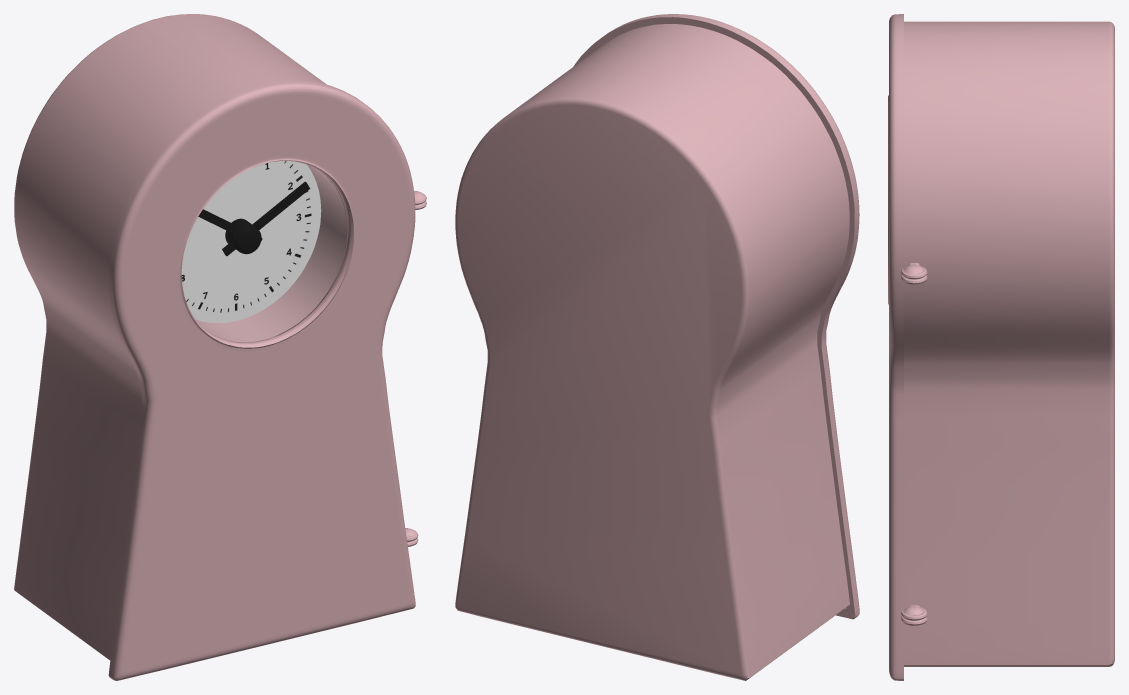
The picture shows the model from 3 angles, left to right: view 1: azimuth 30°, elevation 25°; view 2: azimuth 150°, elevation 25°; view 3: azimuth 270°, elevation 25°; orthographic projection. The views are drawn at different scales.
Parts seen in each view (by area): view 1: 50638842_50638842_cn; view 2: 50638842_50638842_cn; view 3: 50638842_50638842_cn.
Boxes of the visible parts, x1,y1,x2,y2 form: 50638842_50638842_cn: (14, 14, 426, 680); 50638842_50638842_cn: (455, 14, 859, 680); 50638842_50638842_cn: (888, 14, 1114, 680).
Size of the model in its own units: 0.0844 by 0.1399 by 0.05.
Materials: 4 (1 with a texture image).
